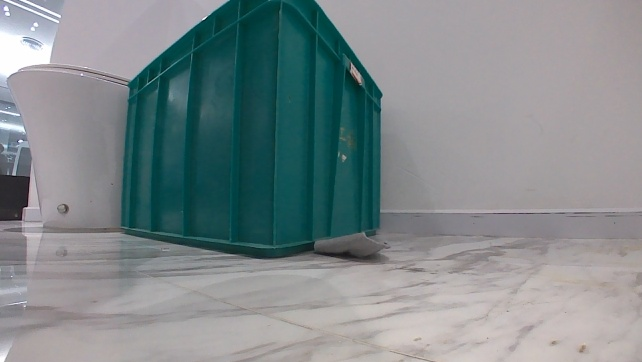socks: (310, 229, 390, 259)
toilet: (5, 60, 133, 234)
